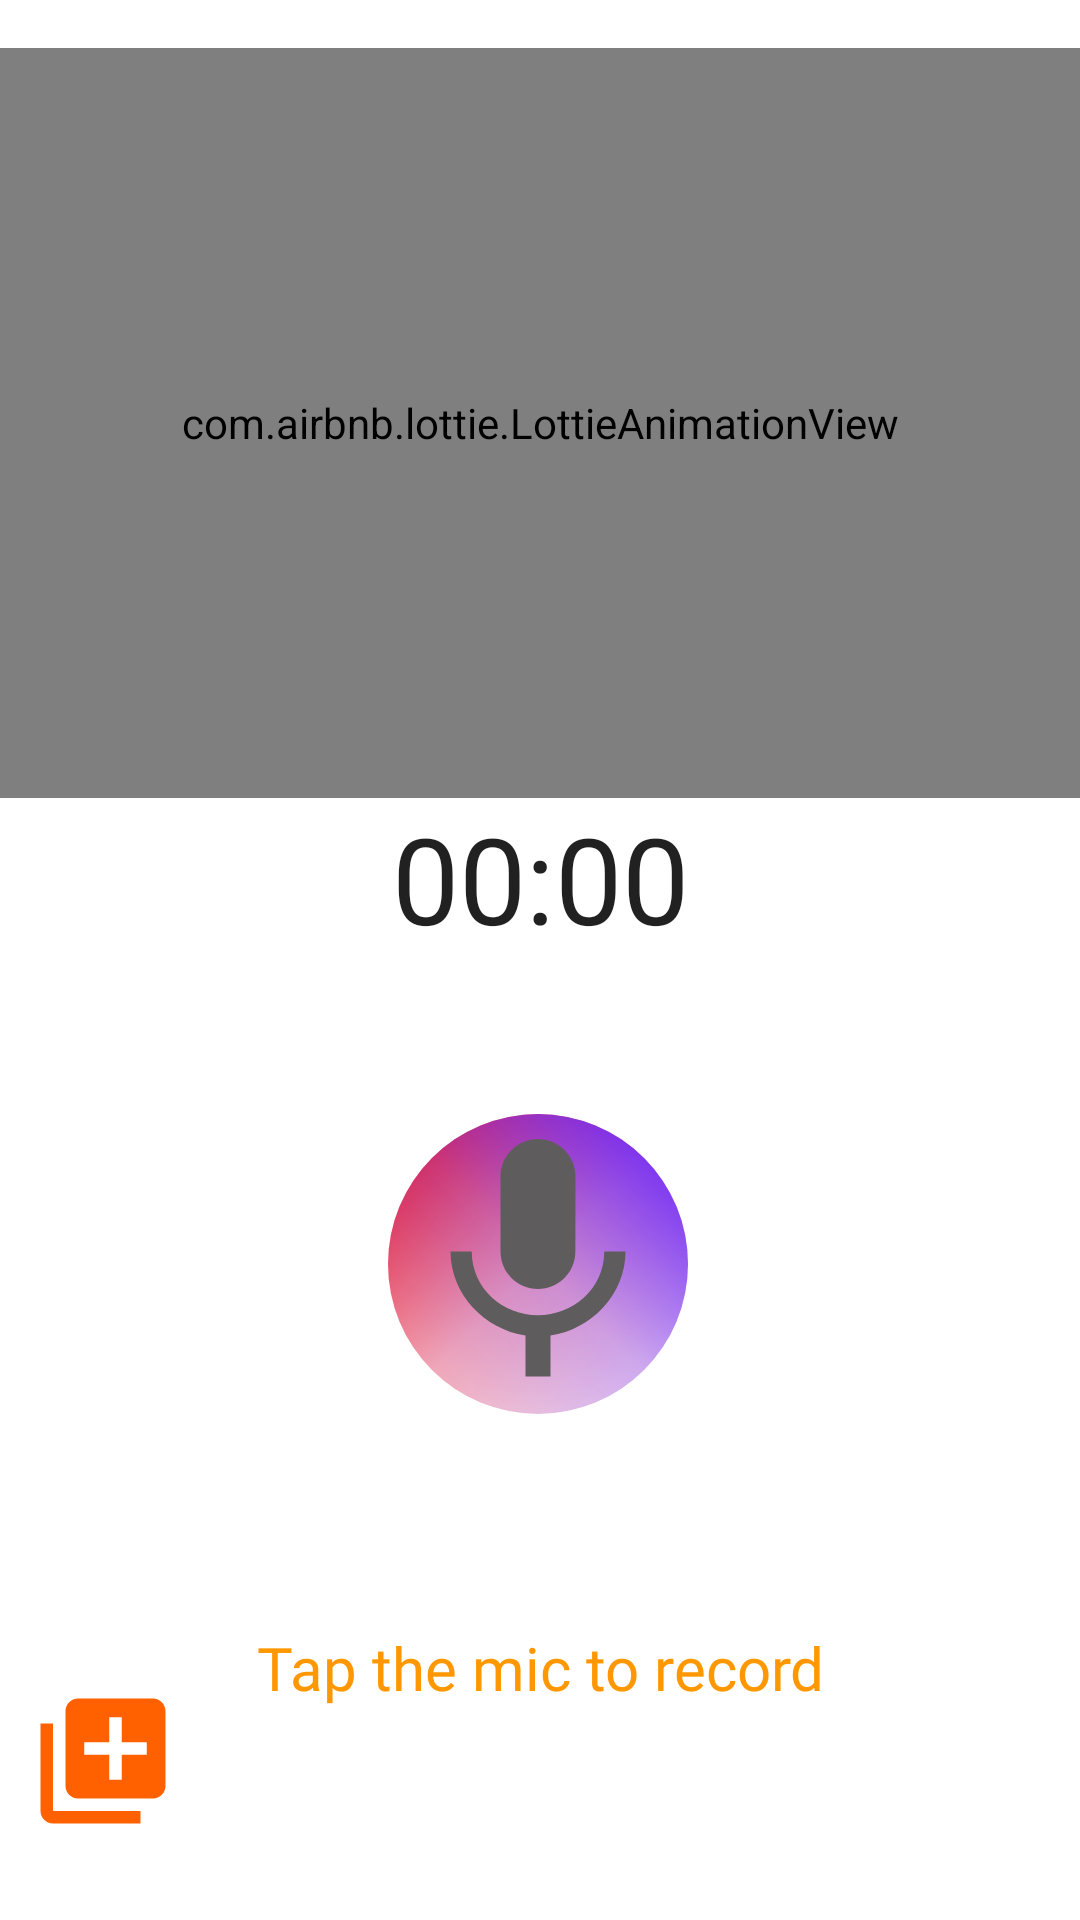

Where icons sit on this 1080w x 1920h app screen, as (x1, y1, x2, y2):
library add: (40, 1698, 166, 1824)
mic: (388, 1114, 688, 1414)
